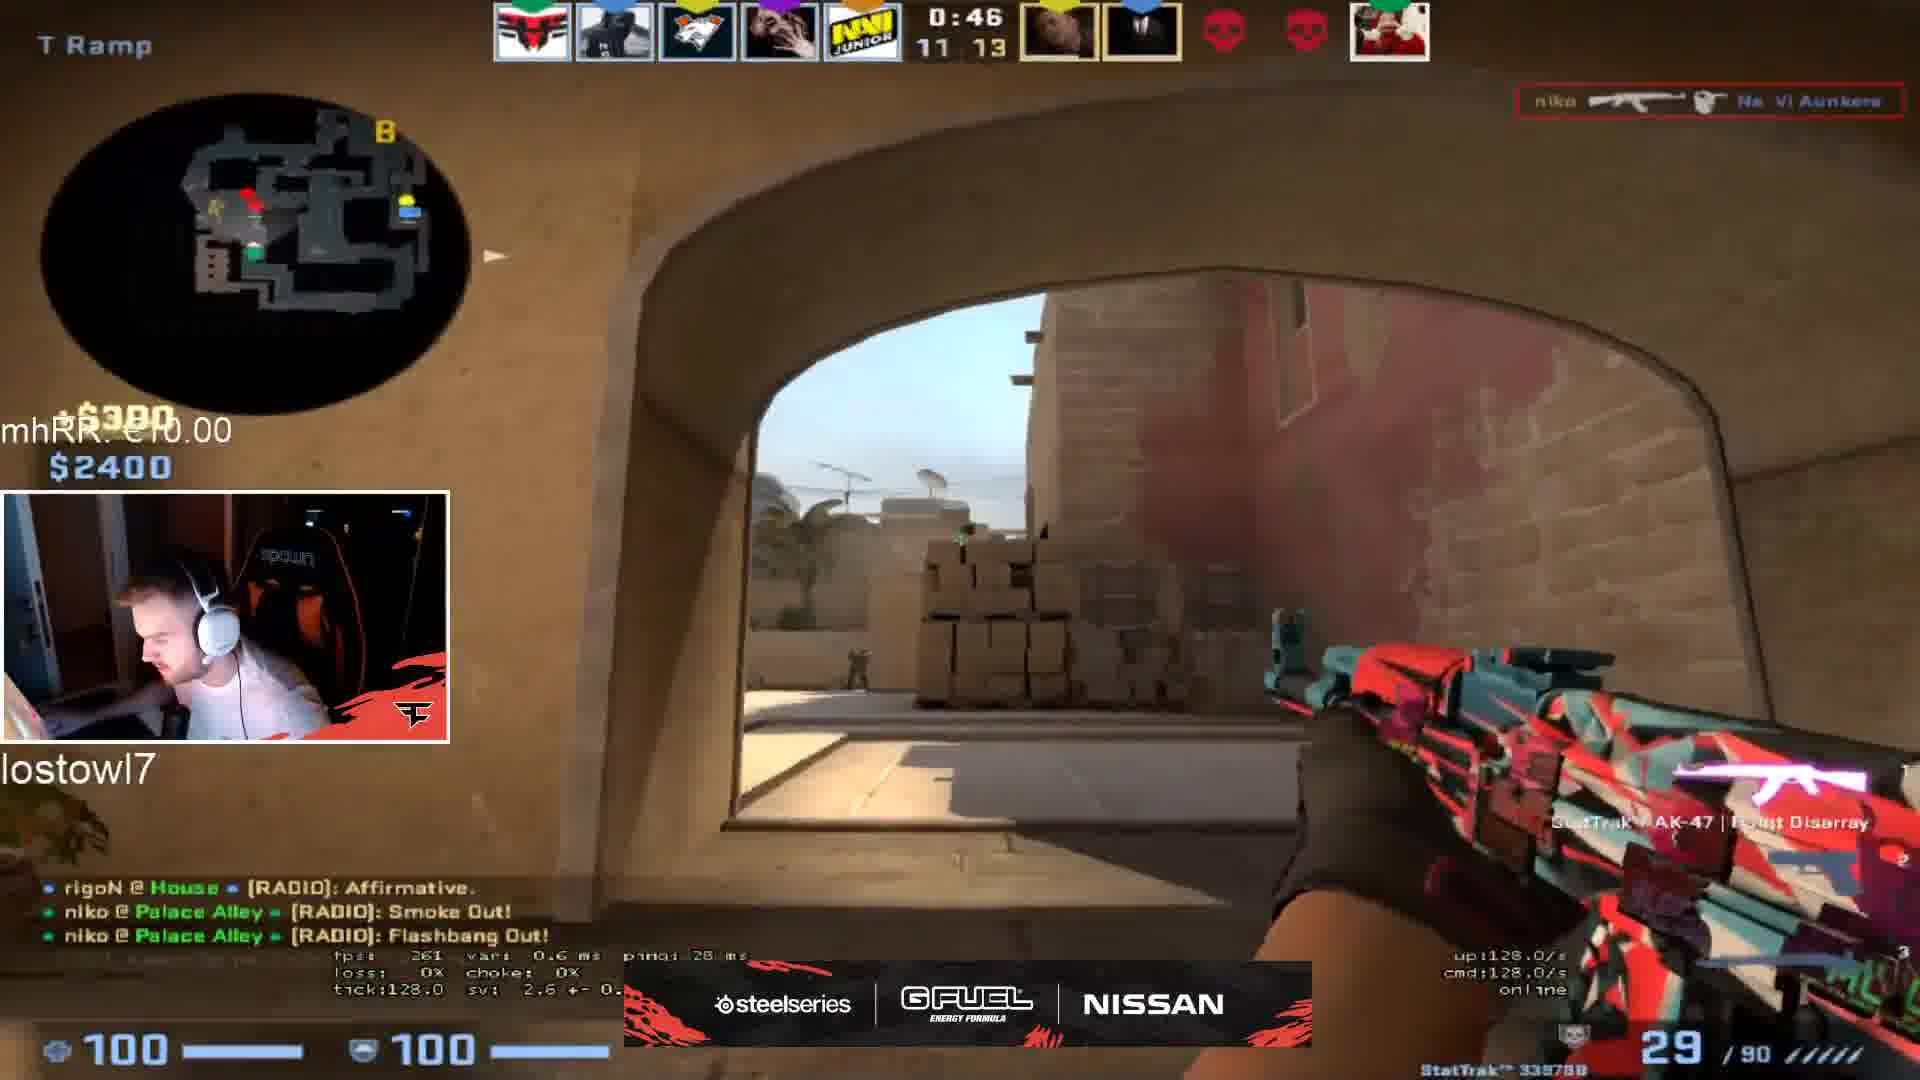enemy: (841, 642, 876, 699)
